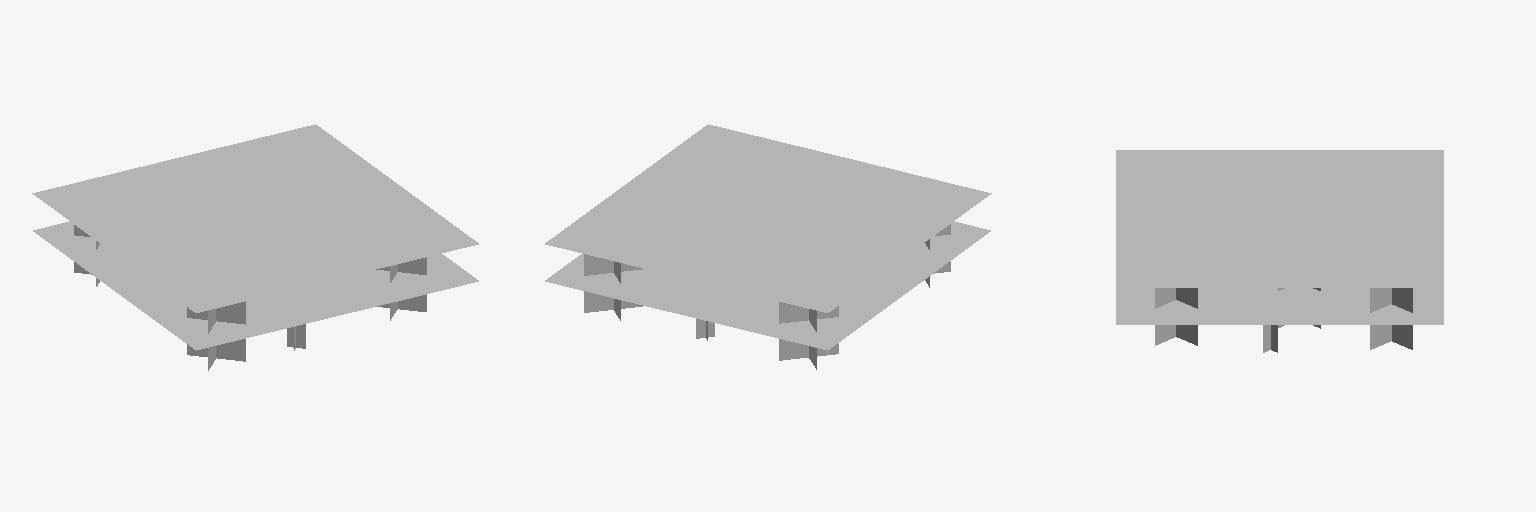
File: star_petals_draft_3.obj
3 views of the same model, side by side, from view 1: azimuth 30°, elevation 25°; view 2: azimuth 150°, elevation 25°; view 3: azimuth 270°, elevation 25° (orthographic).
Parts seen in each view (by area): view 1: Flowers, cube; view 2: Flowers, cube; view 3: Flowers, cube.
Part boxes in pixels (left/top/right/bottom): Flowers: left=32, top=124, right=478, bottom=350; cube: left=74, top=225, right=426, bottom=370; Flowers: left=545, top=124, right=991, bottom=350; cube: left=584, top=224, right=950, bottom=369; Flowers: left=1116, top=150, right=1443, bottom=324; cube: left=1155, top=288, right=1412, bottom=352.
Bounding box in the file's own units: 1 × 0.25 × 1.